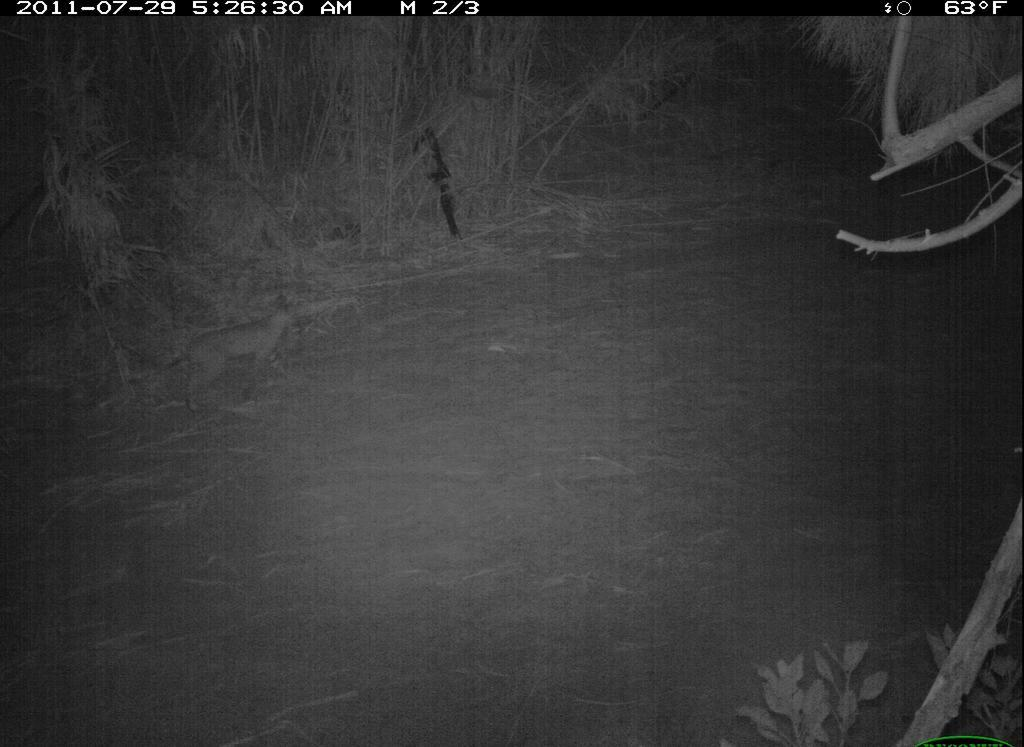bobcat: (162, 295, 304, 418)
